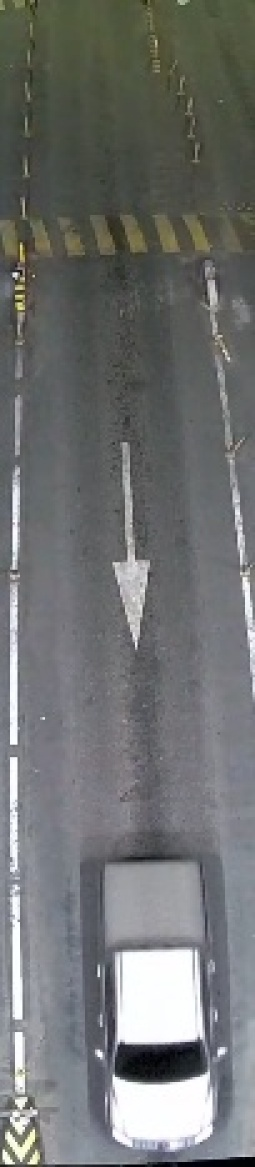car: (93, 857, 236, 1162)
